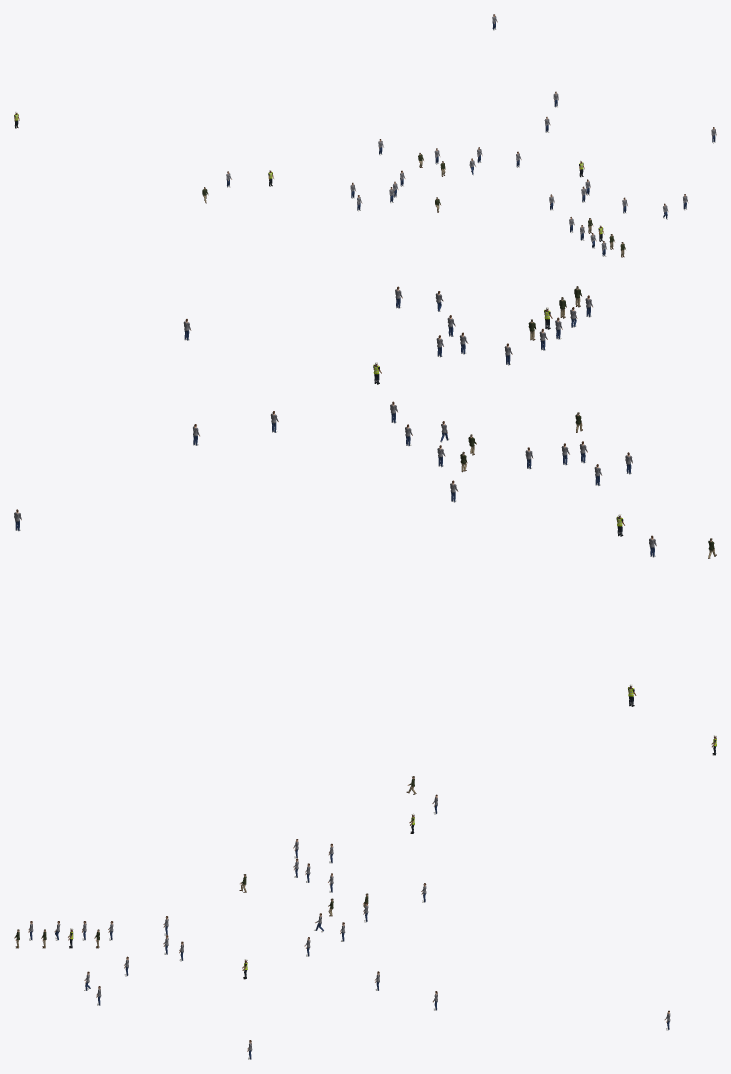
The model's file is people.glb.
3 views of the same model, one above another, from view 1: azimuth 30°, elevation 25°; view 2: azimuth 150°, elevation 25°; view 3: azimuth 270°, elevation 25° (orthographic). The views are drawn at different scales.
Bounding box in the file's own units: 62.55 × 2.42 × 60.52.
36 materials, 36 textured.
